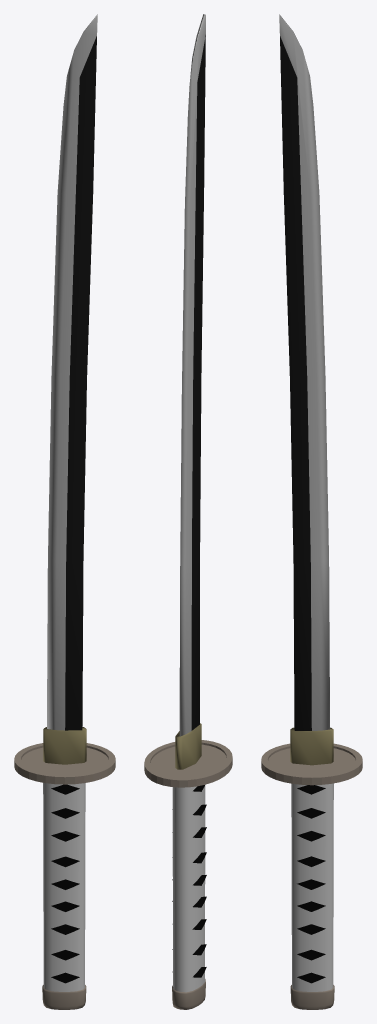
3 views of the same model, side by side, from view 1: azimuth 90°, elevation 25°; view 2: azimuth 150°, elevation 25°; view 3: azimuth 270°, elevation 25° (orthographic).
Visible parts, largest first — view 1: Cube.223; view 2: Cube.223; view 3: Cube.223.
Boxes of the visible parts, box(x1,y1,x2,y2) form: Cube.223: box(14, 14, 115, 1009); Cube.223: box(144, 14, 232, 1009); Cube.223: box(261, 14, 362, 1009).
Bounding box in the file's own units: 30.12 × 385 × 35.85.
